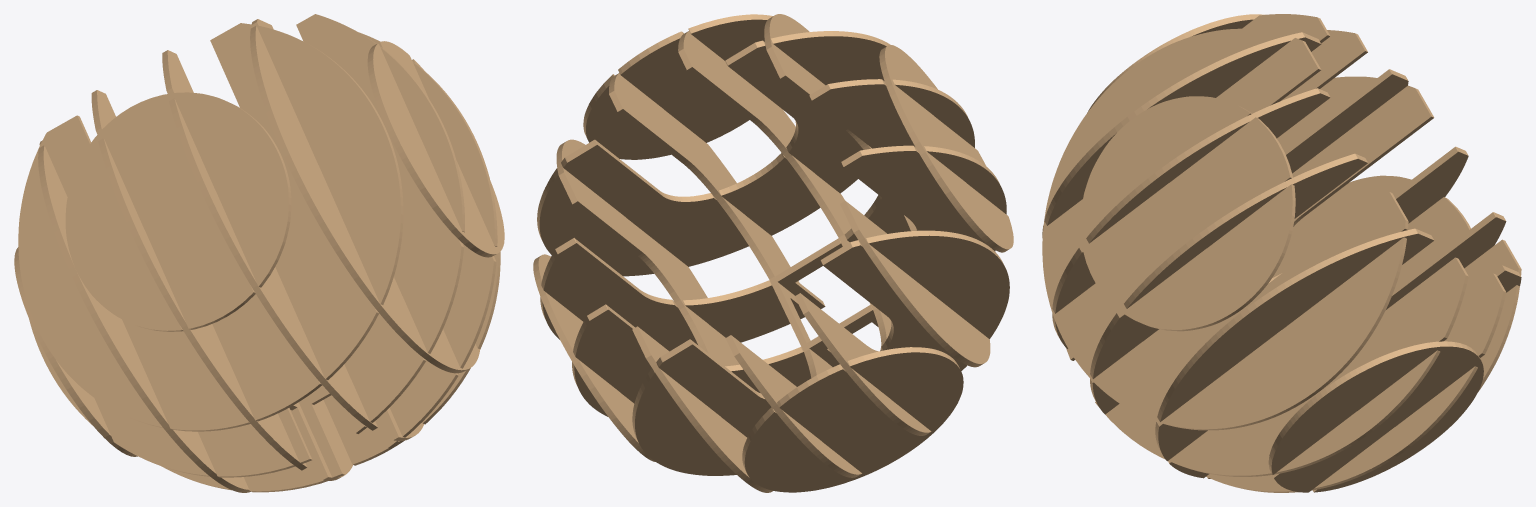
Rendered from samla.glb.
3 views of the same model, side by side, from view 1: azimuth 30°, elevation 25°; view 2: azimuth 150°, elevation 25°; view 3: azimuth 270°, elevation 25° (orthographic). The views are drawn at different scales.
Parts seen in each view (by area): view 1: slicer-n1s; view 2: slicer-n1s; view 3: slicer-n1s.
Part boxes in pixels (x1,y1,x2,y2): slicer-n1s: (14, 14, 504, 492); slicer-n1s: (533, 14, 1013, 492); slicer-n1s: (1042, 14, 1521, 492).
Bounding box in the file's own units: 0.2158 × 0.2215 × 0.2206.
